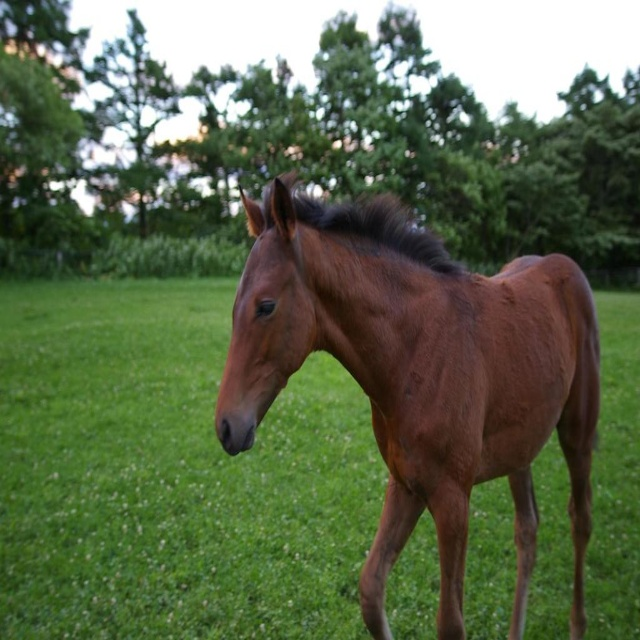Horse: (216, 167, 602, 639)
